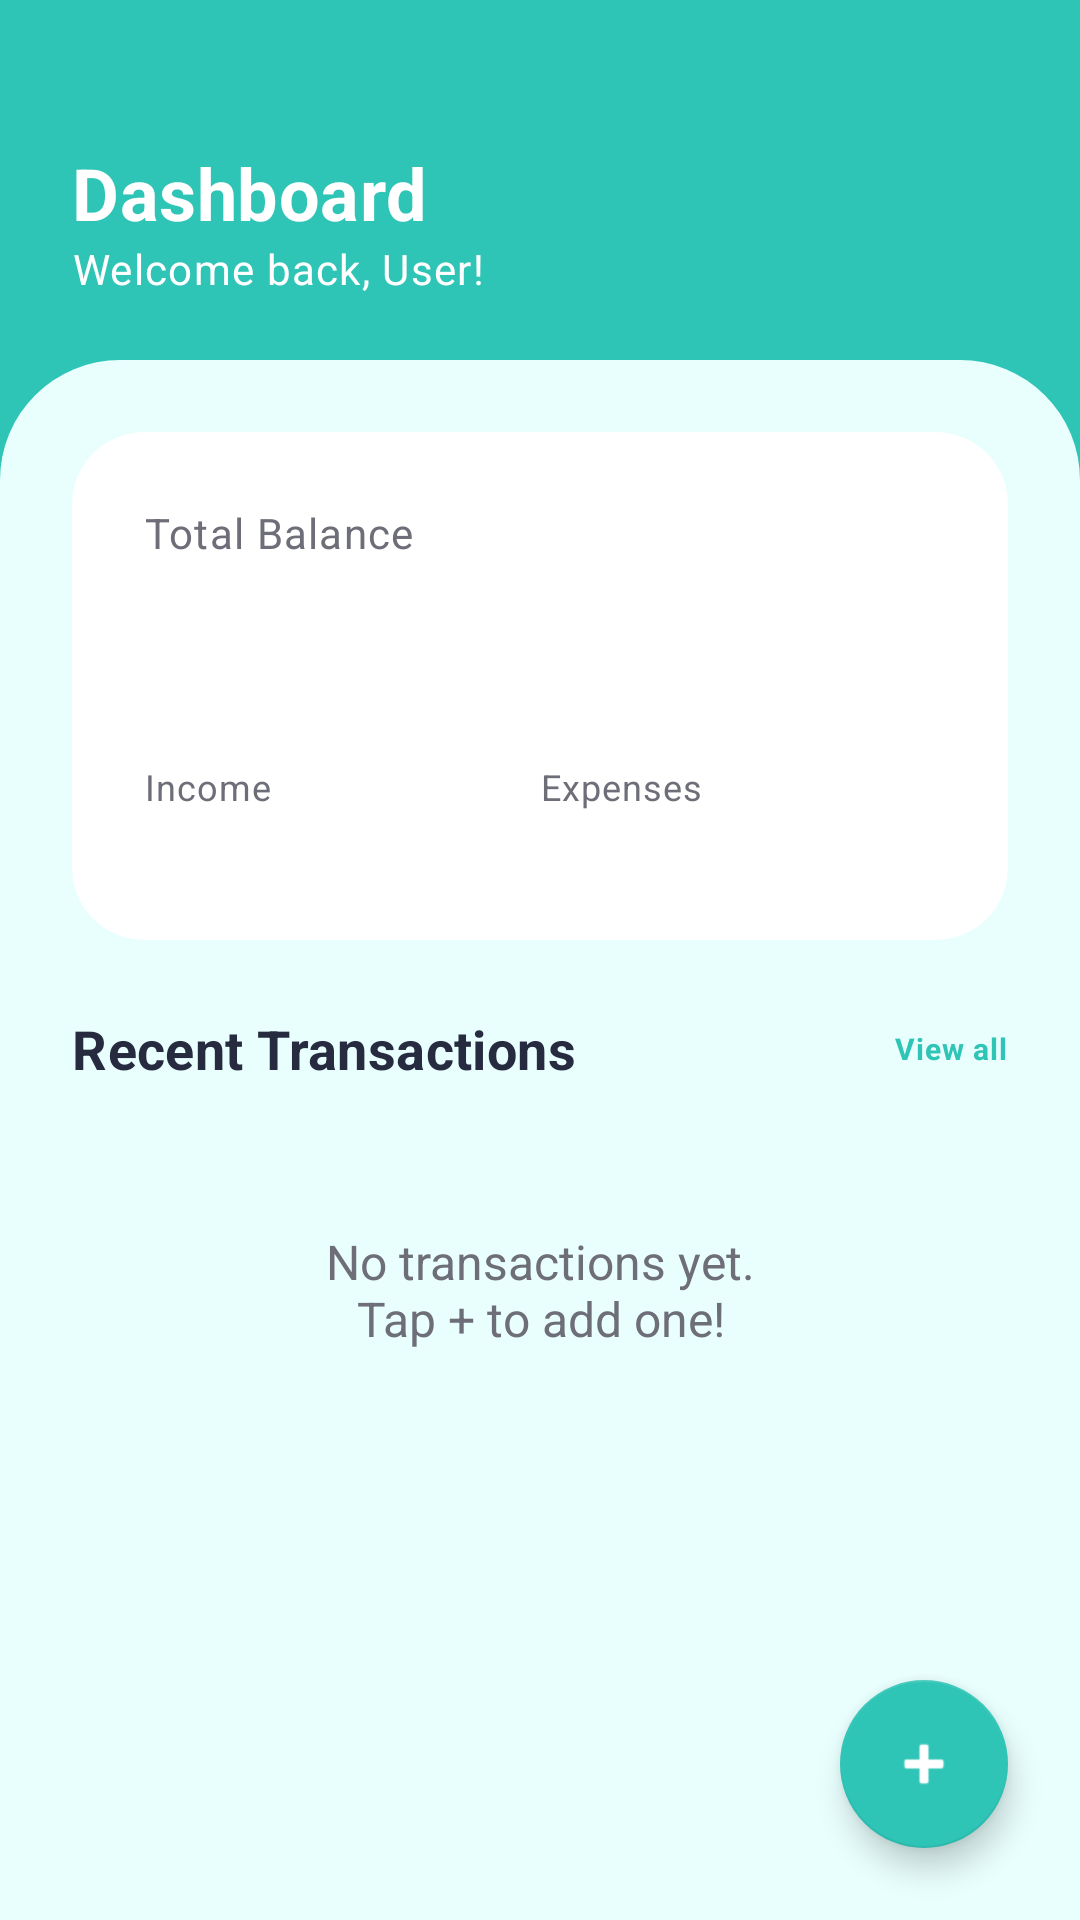

Screen size 1080*1920. Icon name, then its center in pixels as (x,y):
Add Transaction: (924,1764)
